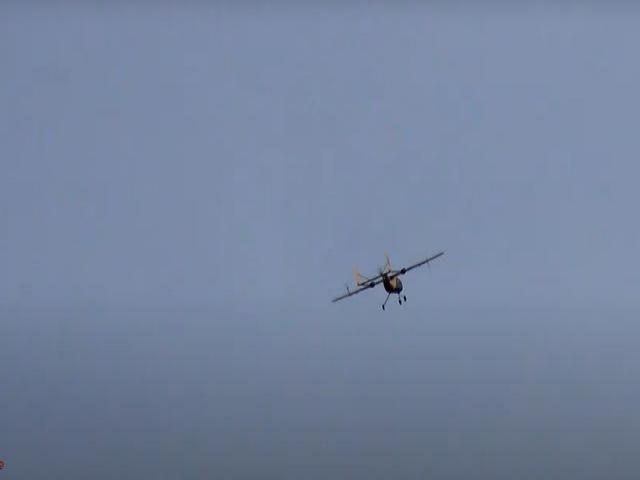iha: (332, 247, 452, 312)
